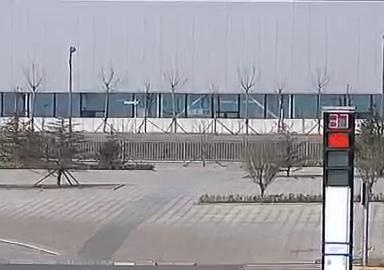red: (326, 134, 349, 150)
redtime: (327, 112, 348, 128)
